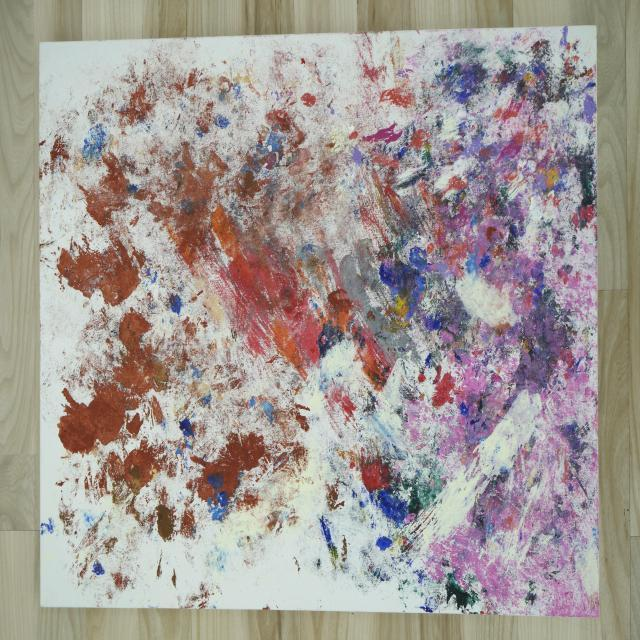painting: (40, 27, 598, 616)
